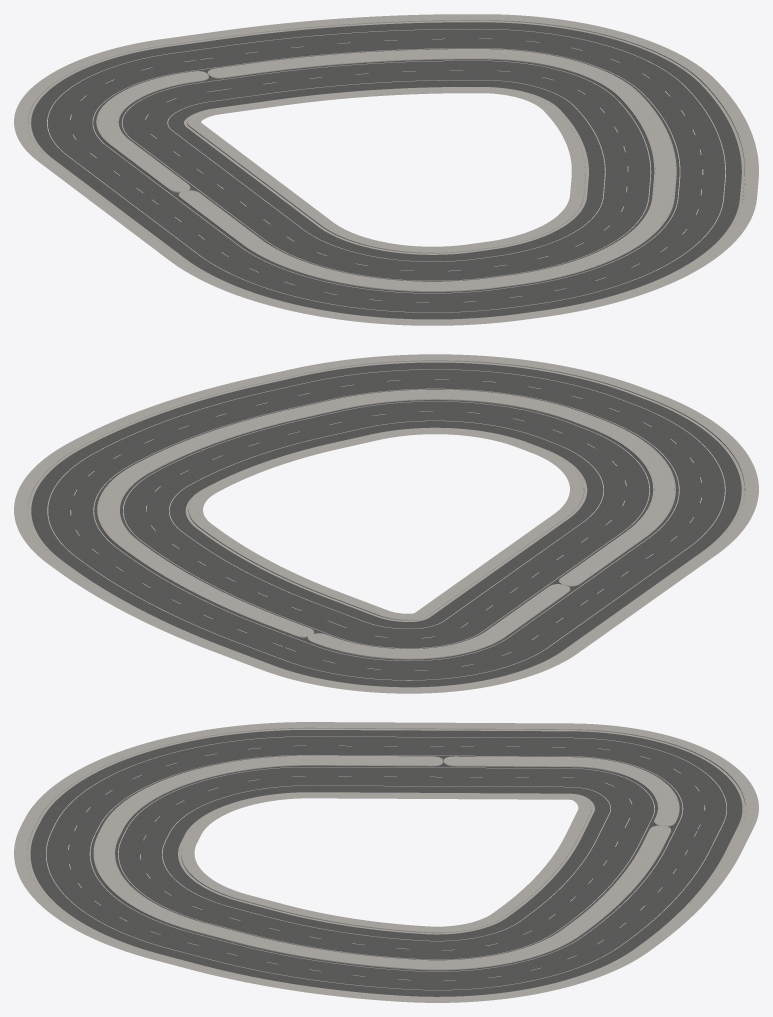
3 renders of one model, top to bottom at view 1: azimuth 30°, elevation 25°; view 2: azimuth 150°, elevation 25°; view 3: azimuth 270°, elevation 25°, orthographic. The views are drawn at different scales.
Parts seen in each view (by area): view 1: Road_Road_Layer0Node, Road_Sidewalk_Layer0Node, Road_Curb_Layer0Node, Road_Marking_Layer0Node, Road_Gutter_Layer0Node; view 2: Road_Road_Layer0Node, Road_Sidewalk_Layer0Node, Road_Curb_Layer0Node, Road_Marking_Layer0Node, Road_Gutter_Layer0Node; view 3: Road_Road_Layer0Node, Road_Sidewalk_Layer0Node, Road_Curb_Layer0Node, Road_Marking_Layer0Node, Road_Gutter_Layer0Node.
Boxes of the visible parts, x1=… form: Road_Road_Layer0Node: x1=31, y1=22, x2=741, y2=319; Road_Sidewalk_Layer0Node: x1=14, y1=14, x2=758, y2=325; Road_Curb_Layer0Node: x1=27, y1=19, x2=745, y2=320; Road_Marking_Layer0Node: x1=47, y1=29, x2=725, y2=312; Road_Gutter_Layer0Node: x1=28, y1=21, x2=744, y2=319; Road_Road_Layer0Node: x1=31, y1=362, x2=741, y2=687; Road_Sidewalk_Layer0Node: x1=14, y1=354, x2=758, y2=693; Road_Curb_Layer0Node: x1=27, y1=360, x2=745, y2=687; Road_Marking_Layer0Node: x1=47, y1=369, x2=725, y2=680; Road_Gutter_Layer0Node: x1=28, y1=361, x2=744, y2=687; Road_Road_Layer0Node: x1=30, y1=730, x2=742, y2=996; Road_Sidewalk_Layer0Node: x1=14, y1=722, x2=758, y2=1002; Road_Curb_Layer0Node: x1=26, y1=727, x2=746, y2=997; Road_Marking_Layer0Node: x1=46, y1=736, x2=726, y2=990; Road_Gutter_Layer0Node: x1=27, y1=728, x2=745, y2=997.
Size of the model in its own units: 106 by 119 by 0.1524.
